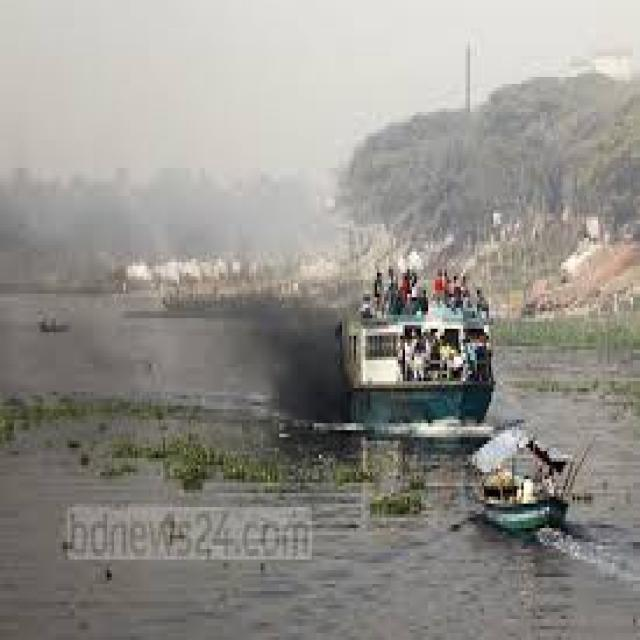Smoke: (193, 260, 349, 438)
